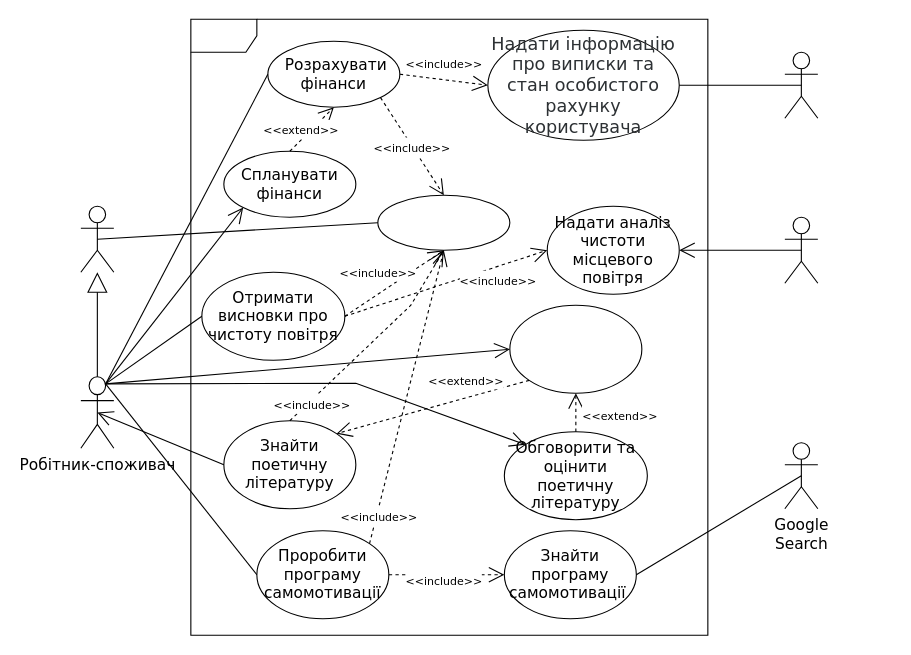
The diagram is 911 pixels wide and 655 high, and some of its shapes have lost their labels. Each missing label, with the centre of its shape:
Авторизувати користувача: the point at 443,222
Банківський API: the point at 801,84
Гідрометеорологічний сервіс: the point at 801,249
Користувач: the point at 97,238
Прочитати поетичну літературу: the point at 575,348
